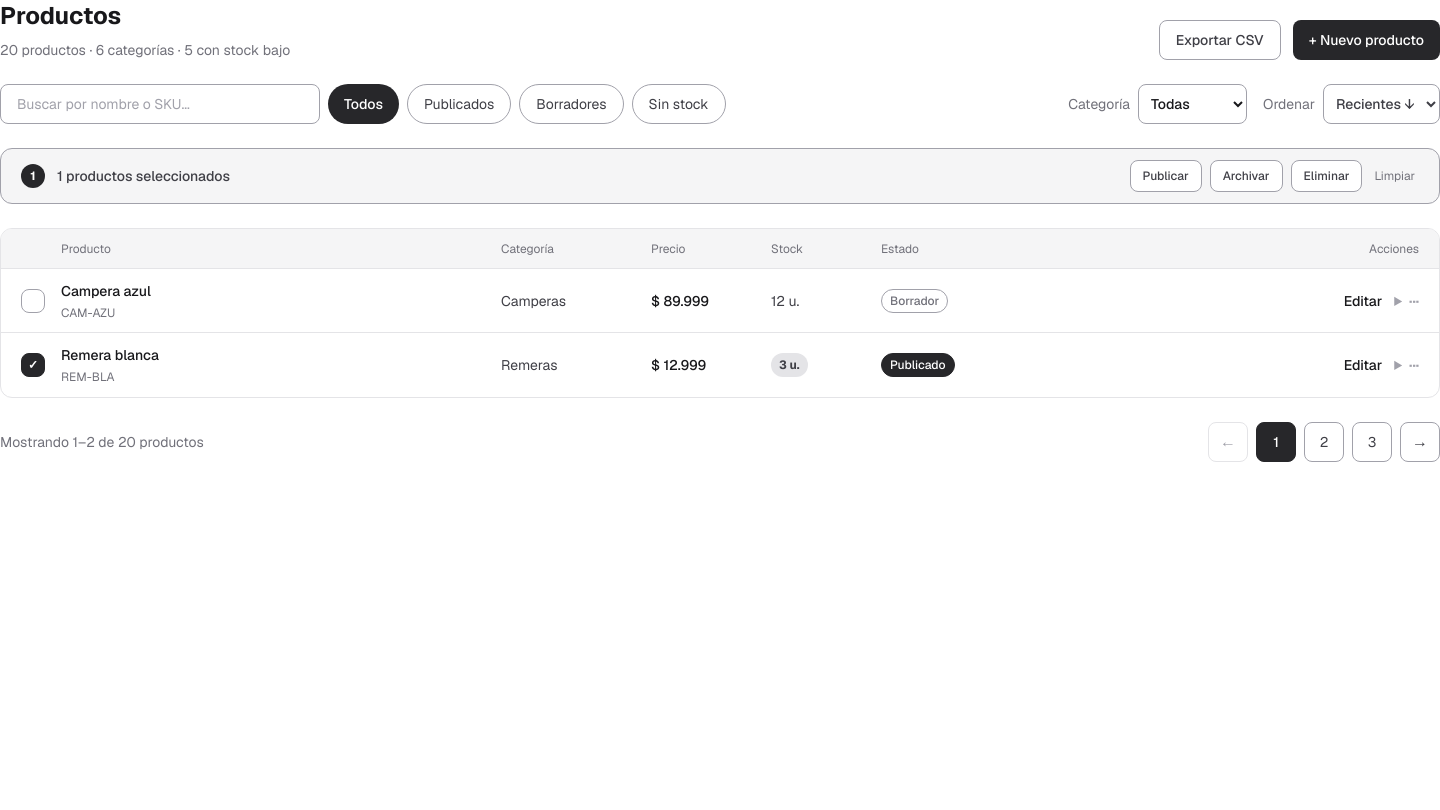
Scenario: AdminProductsWorkspace › prefills the edit modal and updates the real product id
Later steps or results of the test are not shown.
What coordinates should you click on to do the following:
click the button "Editar" in the row of "Remera blanca"
I would click on:
 (1363, 365)
Its box is left=1344, top=355, right=1382, bottom=375.
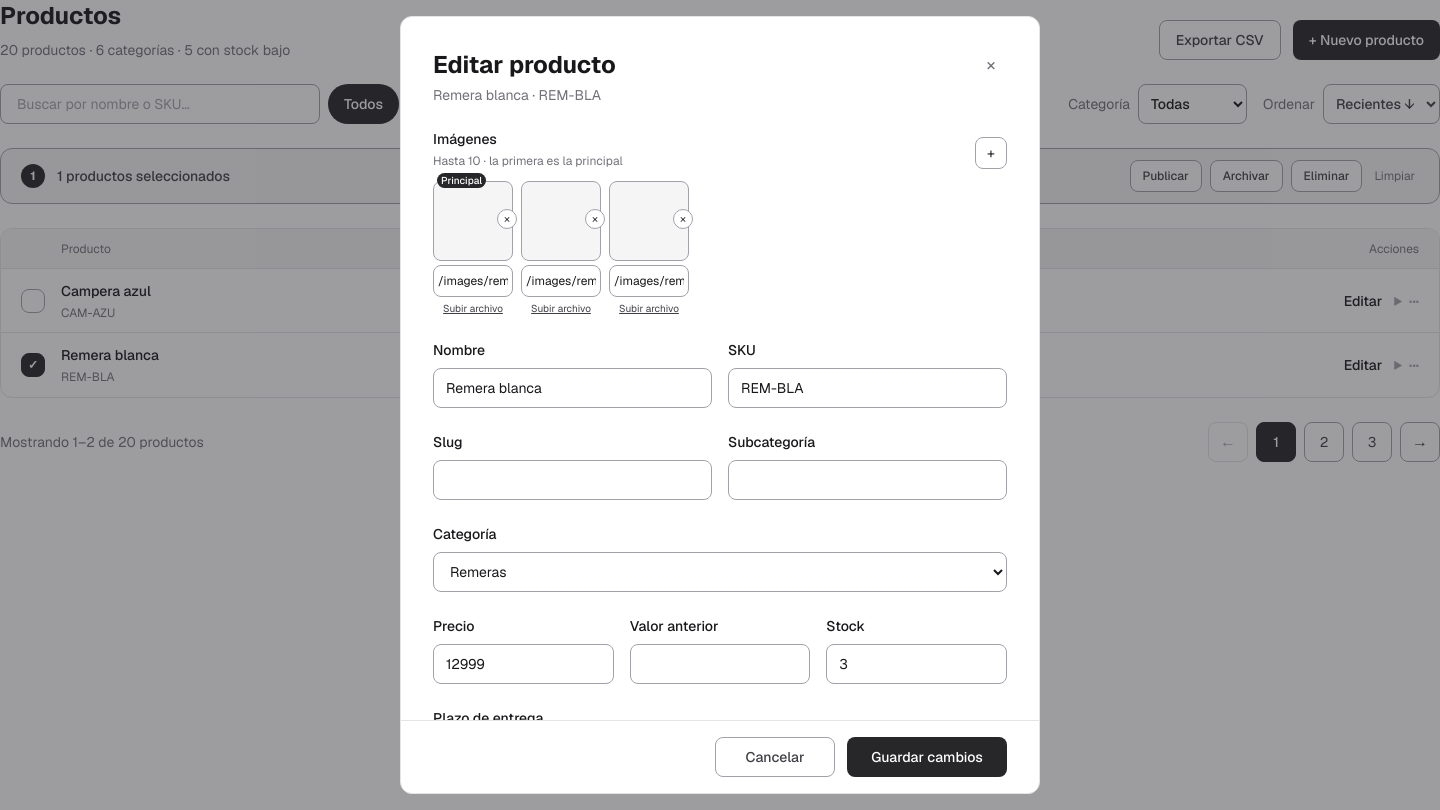
Expected: the field labelled "Nombre" holds "Remera blanca", left=433, top=368, right=712, bottom=408
Expected: the field labelled "SKU" holds "REM-BLA", left=728, top=368, right=1007, bottom=408
Expected: the 1st field named "Imagen 1" holds "/images/remera-1.jpg", left=433, top=265, right=513, bottom=297
